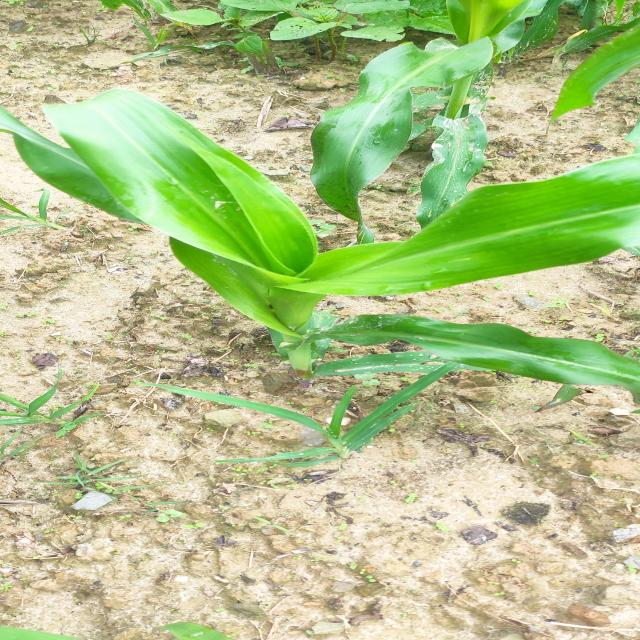maize: (0, 86, 640, 397), (214, 0, 582, 158)
weed: (135, 366, 478, 462), (21, 464, 196, 526), (0, 379, 121, 454)
